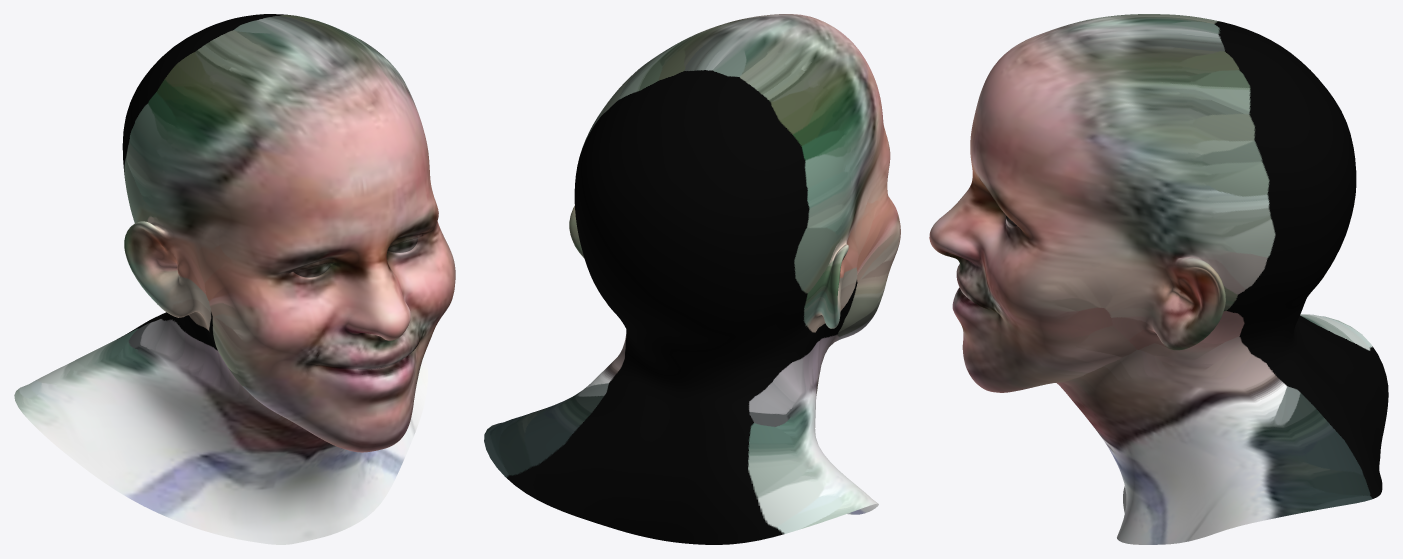
The model's file is YSRModel.glb.
3 renders of one model, left to right at view 1: azimuth 30°, elevation 25°; view 2: azimuth 150°, elevation 25°; view 3: azimuth 270°, elevation 25°, orthographic. The views are drawn at different scales.
Parts seen in each view (by area): view 1: FBHead; view 2: FBHead; view 3: FBHead.
Part boxes in pixels (left/top/right/bottom): FBHead: left=14, top=14, right=455, bottom=544; FBHead: left=484, top=14, right=900, bottom=544; FBHead: left=929, top=14, right=1388, bottom=544.
Size of the model in its own units: 2.01 by 2.47 by 2.07.
Materials: 1 (1 with a texture image).
